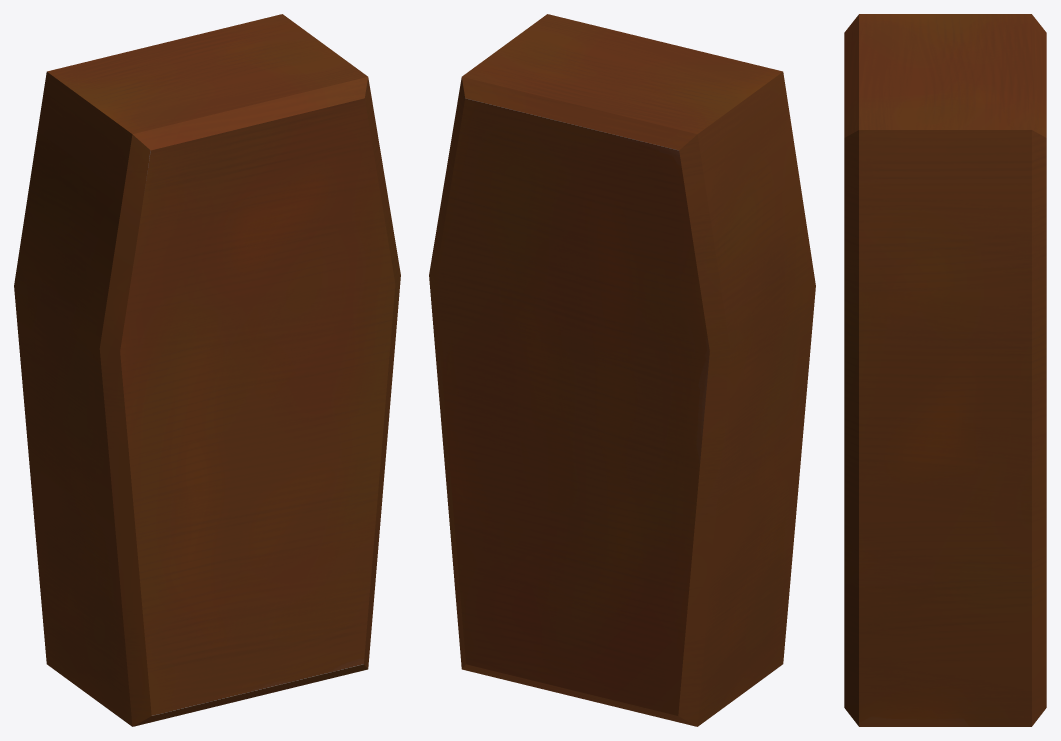
The model's file is Casket.fbx.
3 views of the same model, side by side, from view 1: azimuth 30°, elevation 25°; view 2: azimuth 150°, elevation 25°; view 3: azimuth 270°, elevation 25° (orthographic).
Parts seen in each view (by area): view 1: Casket; view 2: Casket; view 3: Casket.
Boxes of the visible parts, x1=… form: Casket: x1=14, y1=14, x2=400, y2=726; Casket: x1=429, y1=14, x2=815, y2=726; Casket: x1=844, y1=14, x2=1046, y2=726.
Bounding box in the file's own units: 127 × 239 × 73.59.
